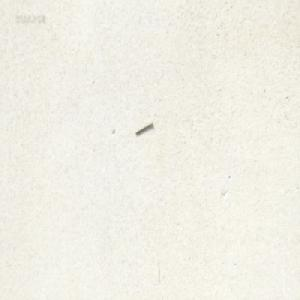Bolt: (134, 120, 152, 134)
